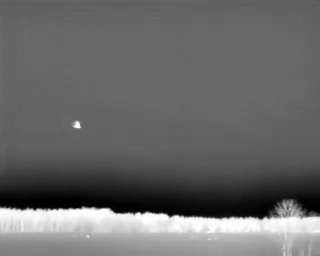BIRD: (70, 117, 85, 133)
